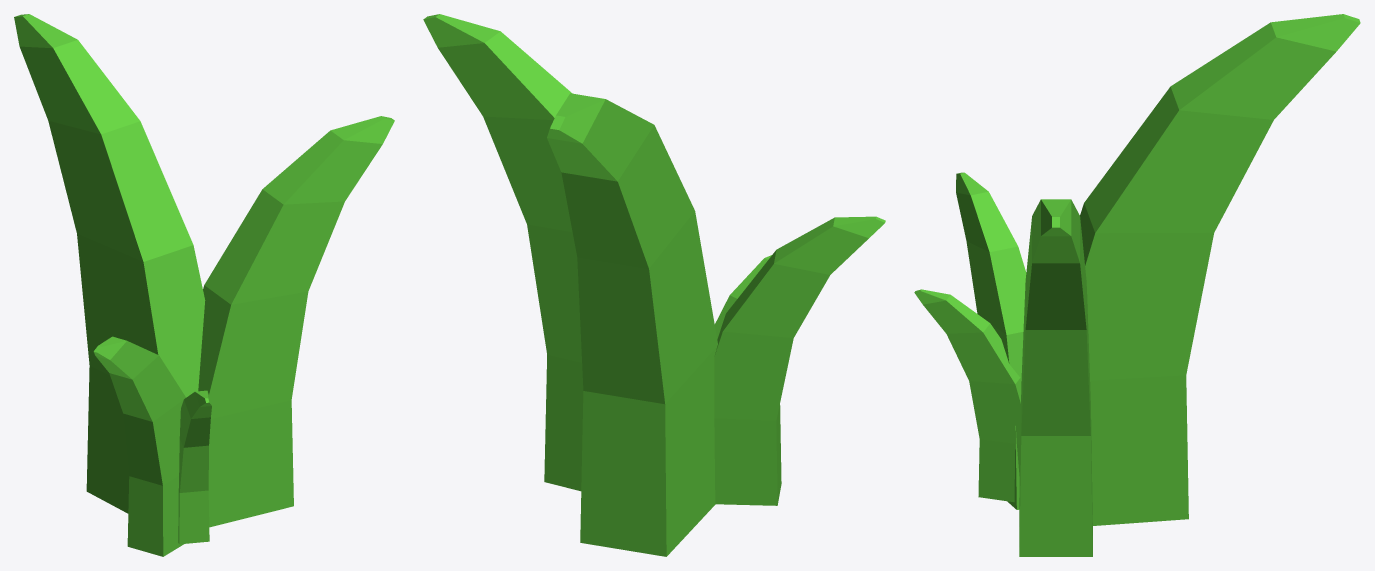
Rendered from herbe_1.fbx.
3 views of the same model, side by side, from view 1: azimuth 30°, elevation 25°; view 2: azimuth 150°, elevation 25°; view 3: azimuth 270°, elevation 25° (orthographic). The views are drawn at different scales.
Visible parts, largest first — view 1: Cube; view 2: Cube; view 3: Cube.
Part boxes in pixels (x1,y1,x2,y2): Cube: (14,14,394,556); Cube: (423,14,885,556); Cube: (914,14,1360,556).
Bounding box in the file's own units: 161 × 189 × 161.
